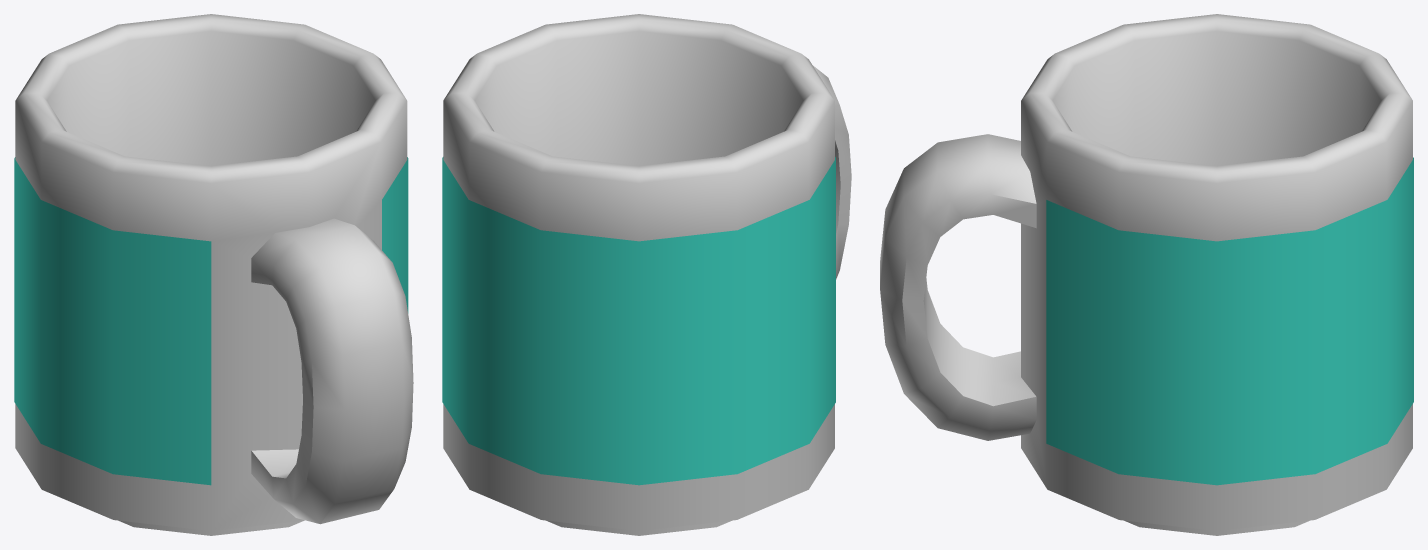
The model's file is Cup.fbx.
3 views of the same model, side by side, from view 1: azimuth 30°, elevation 25°; view 2: azimuth 150°, elevation 25°; view 3: azimuth 270°, elevation 25° (orthographic).
Visible parts, largest first — view 1: Cup; view 2: Cup; view 3: Cup.
Boxes of the visible parts, left/top/right/bottom form: Cup: left=14, top=14, right=413, bottom=535; Cup: left=442, top=14, right=851, bottom=535; Cup: left=880, top=14, right=1413, bottom=535.
Size of the model in its own units: 0.0939 by 0.0993 by 0.1273.
